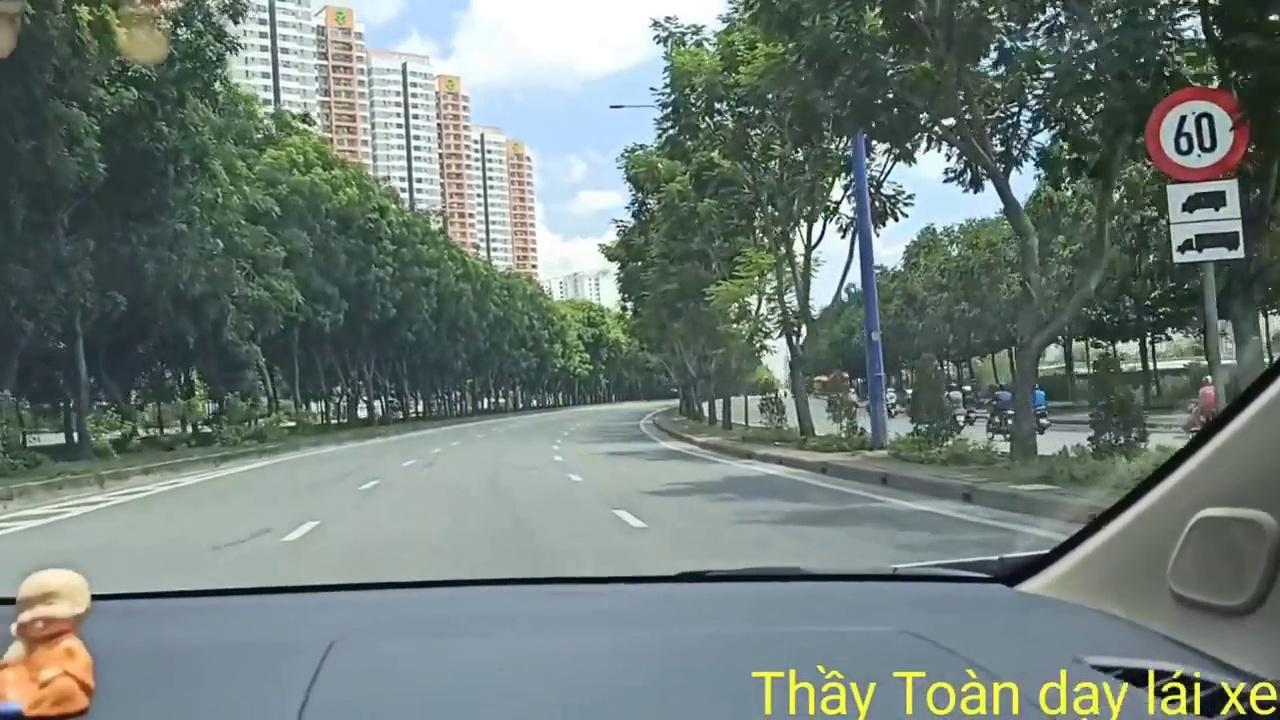Biển phụ: (1166, 180, 1249, 264)
GIơi hạn tốc độ 60Km/h: (1142, 82, 1253, 181)
